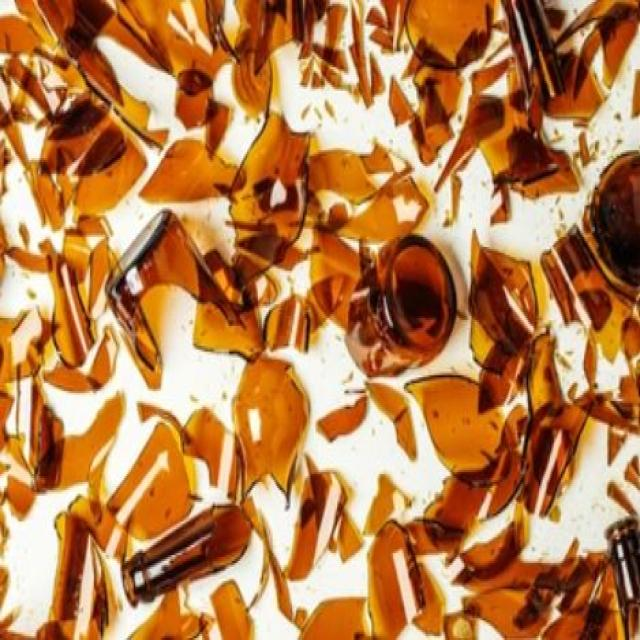electronic: (105, 204, 249, 394), (221, 55, 317, 284), (340, 219, 462, 393), (116, 503, 254, 614)
